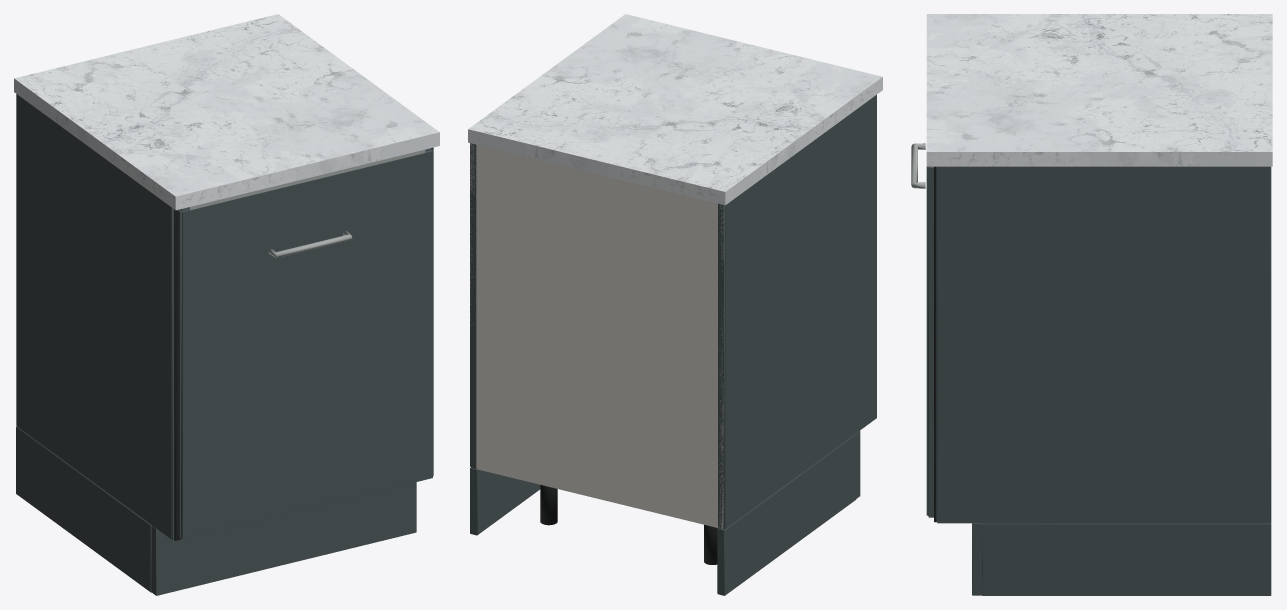
The model's file is industrial.dishwasher.gltf.
3 views of the same model, side by side, from view 1: azimuth 30°, elevation 25°; view 2: azimuth 150°, elevation 25°; view 3: azimuth 270°, elevation 25° (orthographic). The views are drawn at different scales.
Visible parts, largest first — view 1: industrial.dishwasher.back; view 2: industrial.dishwasher.back; view 3: industrial.dishwasher.back.
Part boxes in pixels (x1=…): industrial.dishwasher.back: x1=14, y1=14, x2=439, y2=595; industrial.dishwasher.back: x1=468, y1=14, x2=882, y2=595; industrial.dishwasher.back: x1=911, y1=14, x2=1272, y2=595.
Bounding box in the file's own units: 0.604 × 0.91 × 0.668.
5 materials, 1 textured.
